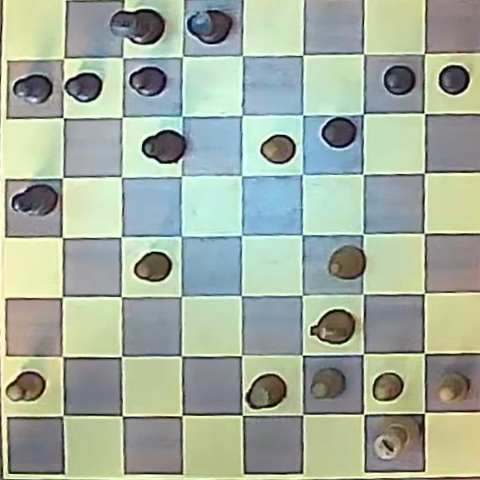black-bishop: (11, 184, 58, 217), (142, 130, 185, 163)
black-king: (111, 8, 164, 45)
black-pawn: (13, 73, 53, 104), (64, 72, 103, 102), (129, 66, 167, 96), (321, 117, 356, 148), (438, 64, 470, 95), (383, 65, 415, 95)
black-rook: (186, 10, 232, 45)
white-bishop: (328, 245, 366, 280)
white-king: (373, 417, 419, 461)
white-knight: (311, 310, 355, 345)
white-pawn: (6, 371, 45, 402), (134, 251, 172, 282), (260, 134, 296, 164), (311, 369, 345, 399), (436, 374, 468, 404), (372, 373, 404, 402)
white-rook: (247, 374, 286, 409)
